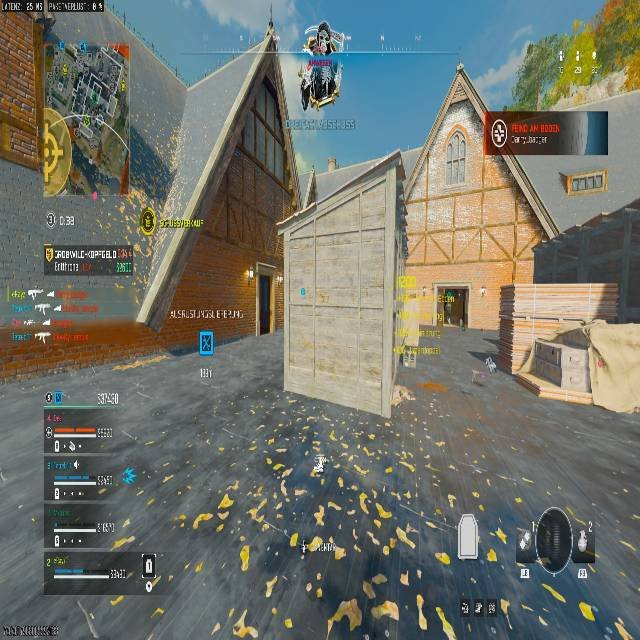player: (300, 22, 343, 111)
